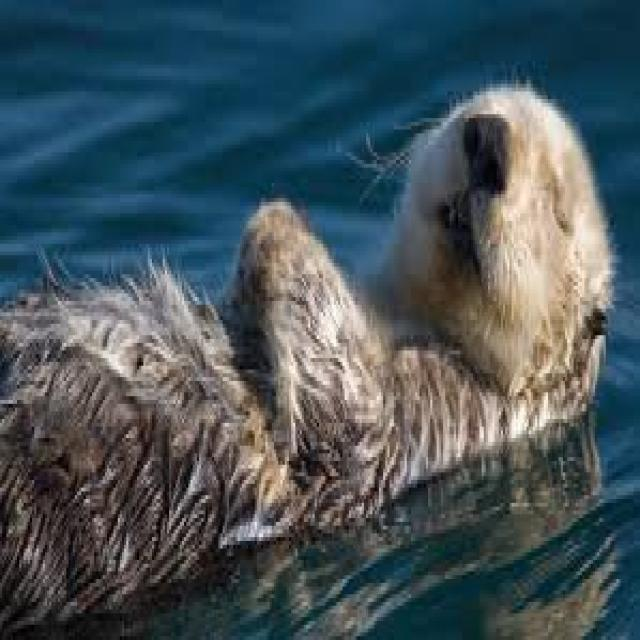Otter: (0, 66, 619, 585)
